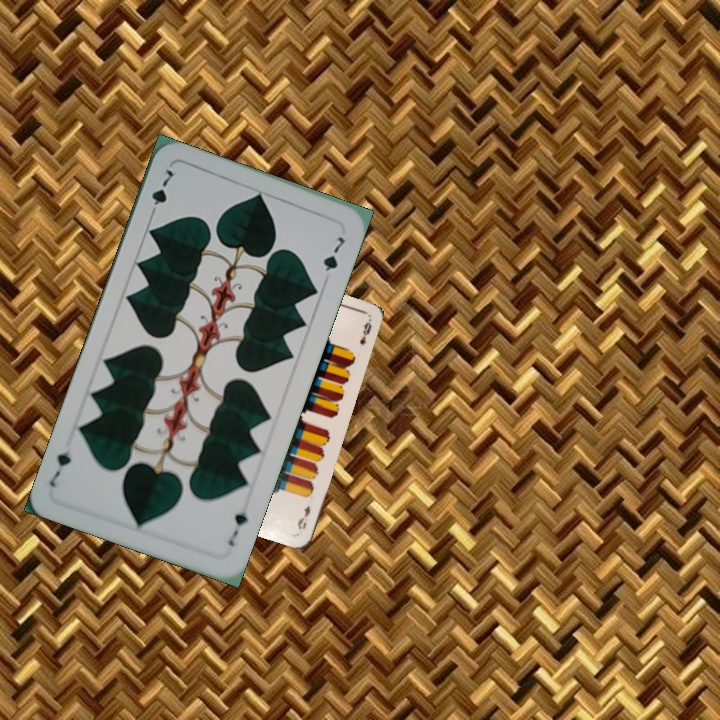E9: (293, 501, 313, 532)
G7: (145, 164, 176, 221), (224, 507, 251, 549)
